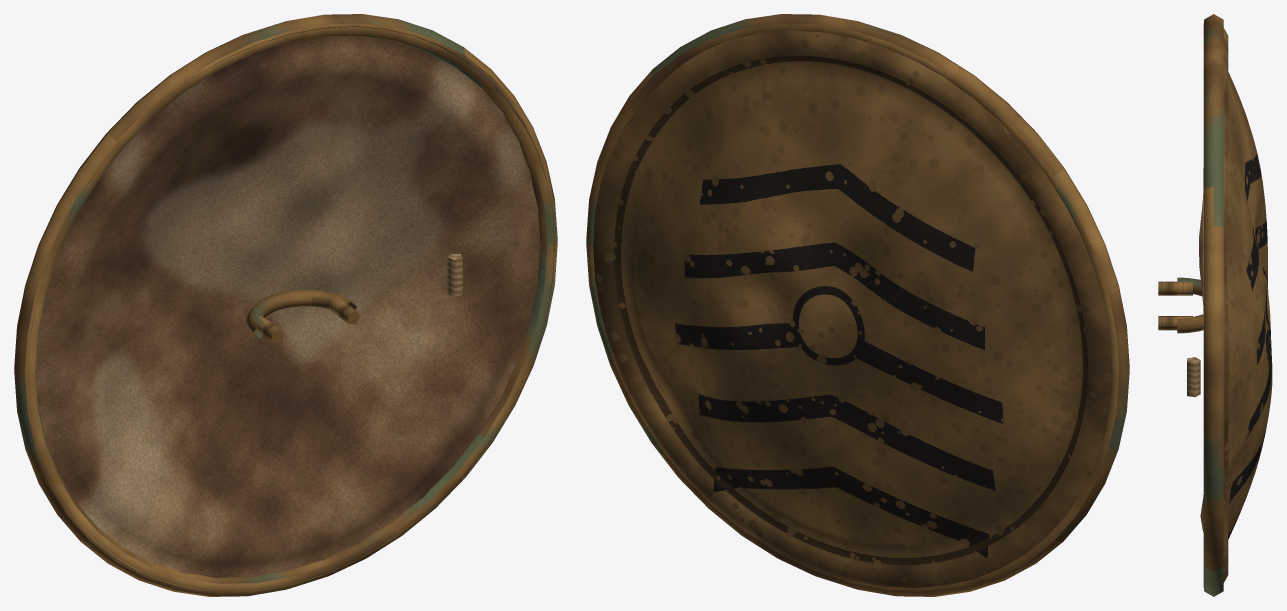
Rendered from hoplon_chevron.gltf.
3 views of the same model, side by side, from view 1: azimuth 30°, elevation 25°; view 2: azimuth 150°, elevation 25°; view 3: azimuth 270°, elevation 25° (orthographic). The views are drawn at different scales.
Visible parts, largest first — view 1: hoplon_chevron; view 2: hoplon_chevron; view 3: hoplon_chevron.
Boxes of the visible parts, bbox=[...] form: hoplon_chevron: bbox=[14, 14, 557, 596]; hoplon_chevron: bbox=[586, 14, 1129, 596]; hoplon_chevron: bbox=[1158, 14, 1272, 596].
Bounding box in the file's own units: 0.928 × 0.928 × 0.1815.
4 materials, 4 textured.
